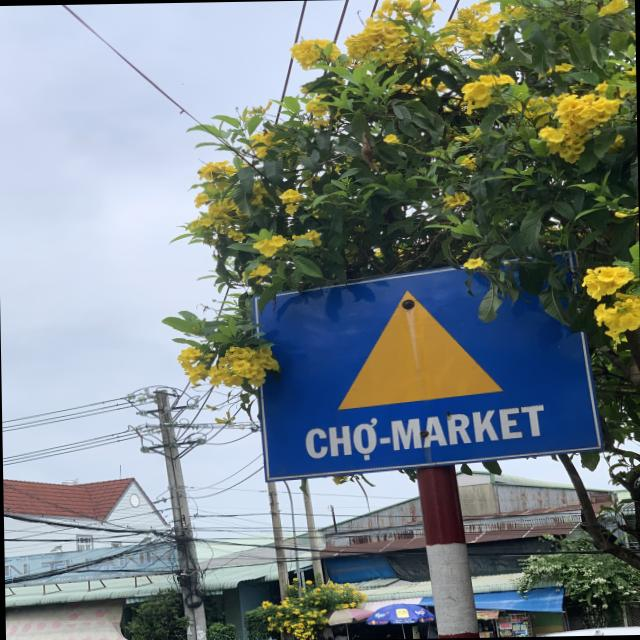Cho_Quay_Xe: (256, 262, 604, 476)
